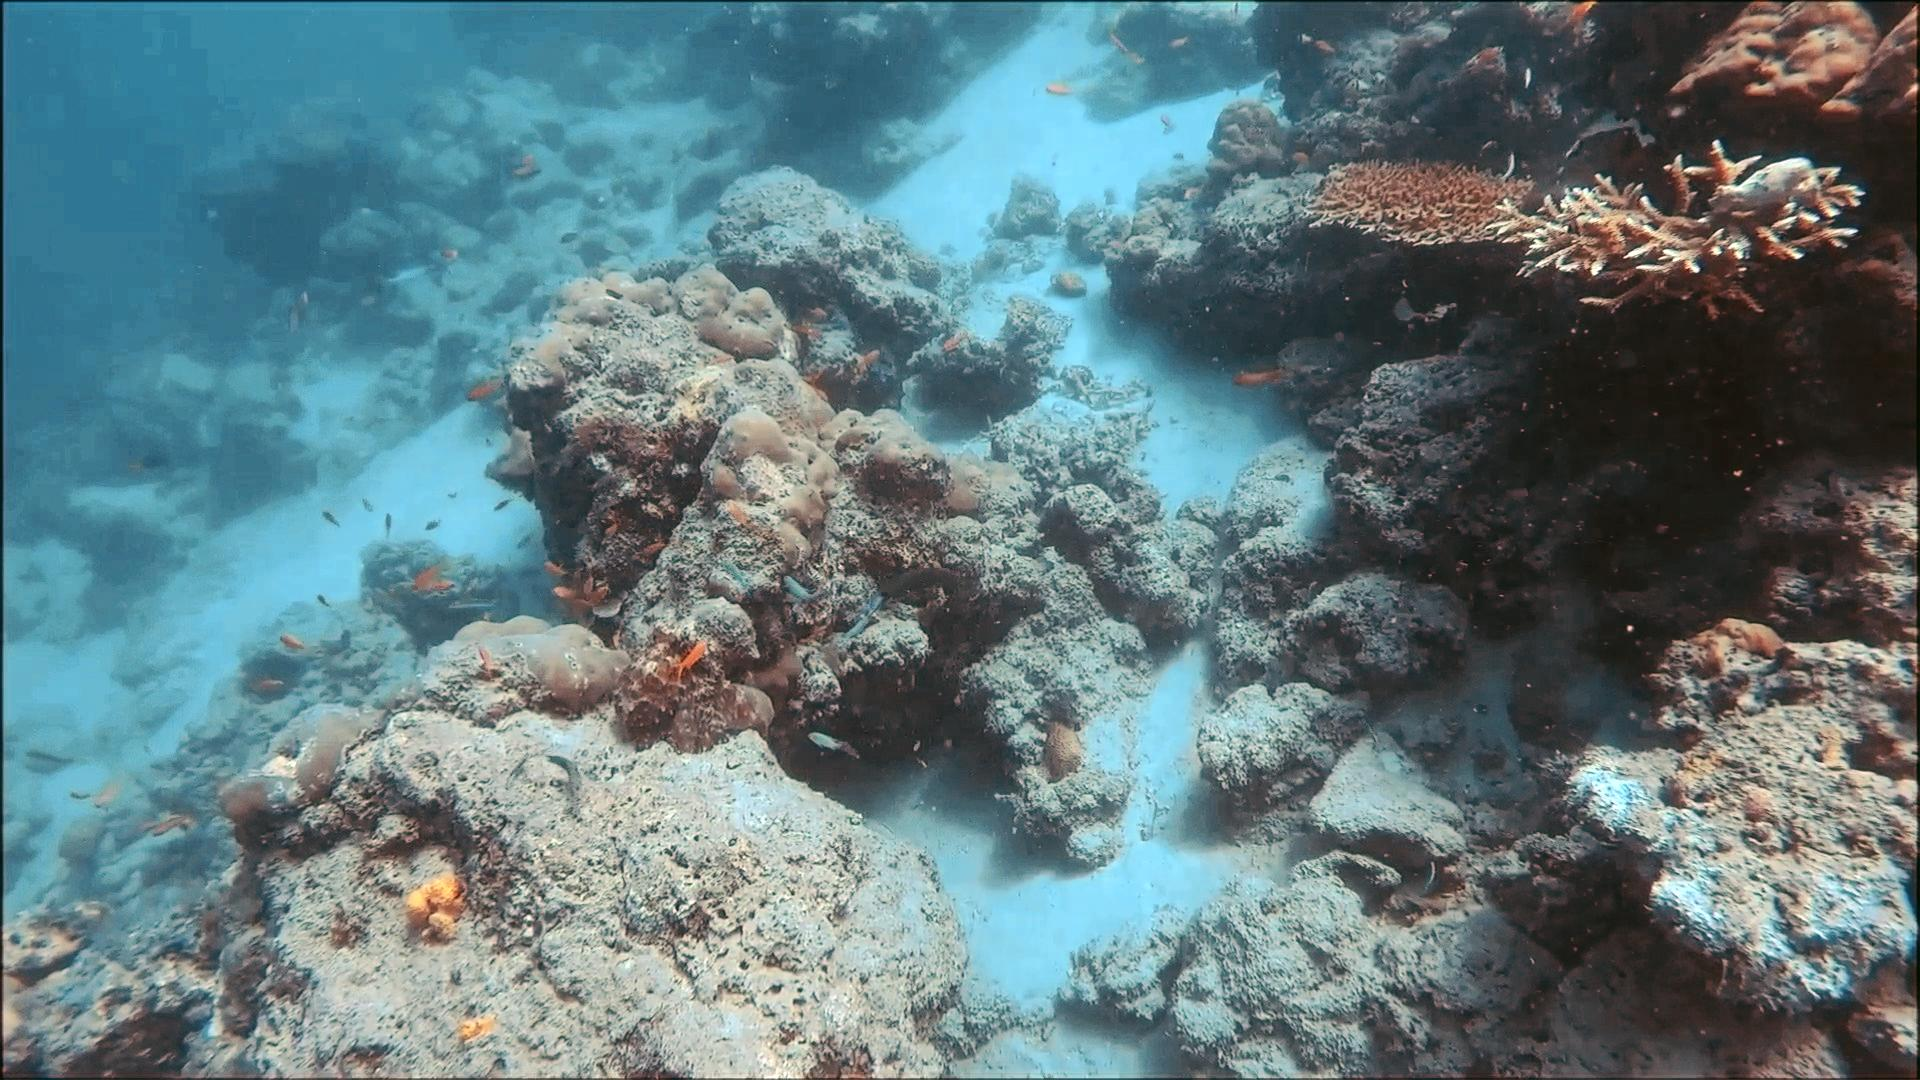Porites-Porites pukoensis: (633, 256, 876, 575)
